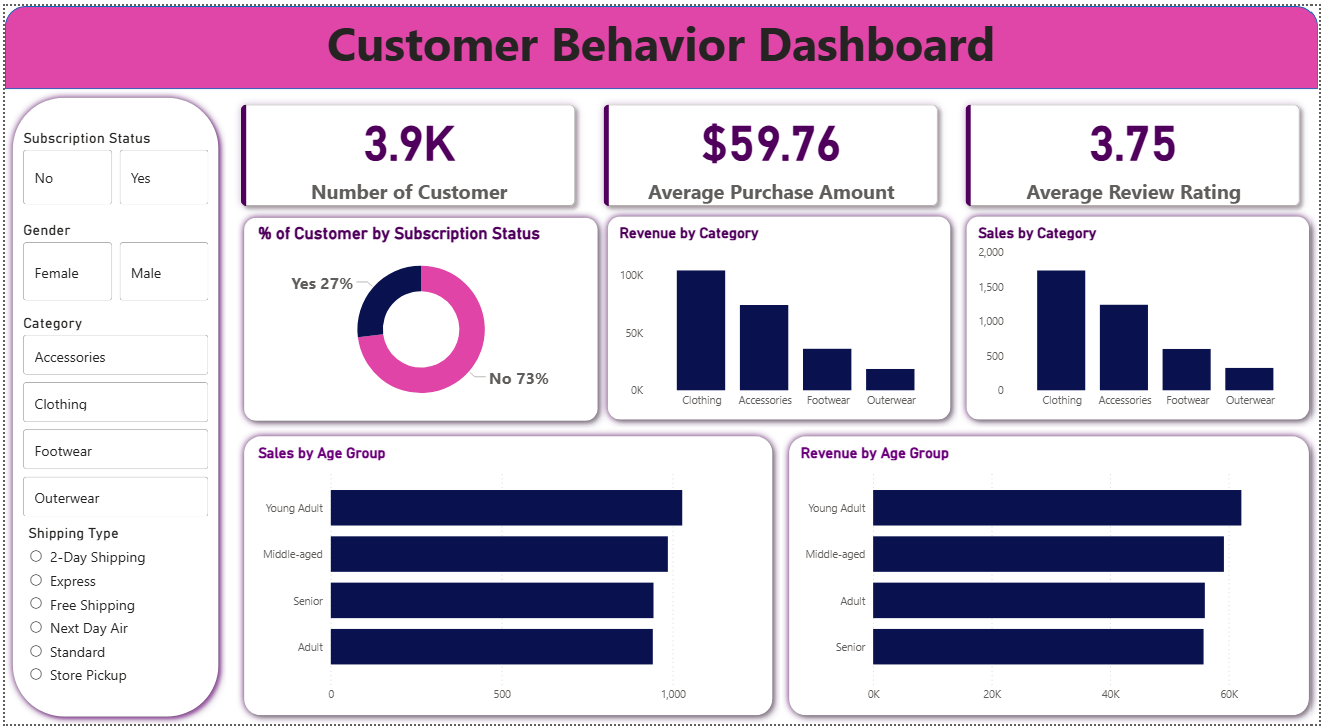

The dashboard page shown, as its layout file describes it:
{"tool":"powerbi","page":{"name":"Page 1","canvas":[1500,820],"ordinal":0},"visuals":[{"type":"cardVisual","fields":{"Data":["public customer.Number of Customer","public customer.Average Purchase Amount","public customer.Average Review Rating"]},"box":[252.9,95,1246.5,150.9],"z":0},{"type":"shape","box":[0,0,1499.4,95],"z":1000},{"type":"textbox","box":[0,0,1499.4,95],"z":2000},{"type":"shape","box":[264.1,233.4,422,250.1],"z":3000},{"type":"donutChart","title":"% of Customer by Subscription Status","fields":{"Category":["public customer.subscription_status"],"Y":["CountNonNull(public customer.customer_id)"]},"box":[283.7,248.7,382.9,220.8],"z":4000},{"type":"shape","box":[680.5,232,409.4,250.1],"z":5000},{"type":"shape","box":[1090,232,409.4,250.1],"z":6000},{"type":"clusteredColumnChart","title":"Revenue by Category","fields":{"Category":["public customer.category"],"Y":["Sum(public customer.purchase_amount)"]},"box":[697.3,248.7,378.7,220.8],"z":7000},{"type":"clusteredColumnChart","title":"Sales by Category","fields":{"Category":["public customer.category"],"Y":["CountNonNull(public customer.customer_id)"]},"box":[1106.8,248.7,378.7,220.8],"z":8000},{"type":"shape","box":[0,95,252.9,725.3],"z":9000},{"type":"advancedSlicerVisual","title":"Subscription Status","fields":{"Values":["public customer.subscription_status"]},"box":[15.4,139.7,222.2,92.2],"z":10000},{"type":"advancedSlicerVisual","title":"Gender","fields":{"Values":["public customer.gender"]},"box":[15.4,245.9,222.2,96.4],"z":11000},{"type":"advancedSlicerVisual","title":"Category","fields":{"Values":["public customer.category"]},"box":[15.4,350.8,222.2,237.6],"z":12000},{"type":"listSlicer","title":"Shipping Type","fields":{"Values":["public customer.shipping_type"]},"box":[21,591.1,211,192.8],"z":13000},{"type":"shape","box":[887.4,483.5,612.1,336.8],"z":15000},{"type":"shape","box":[264.1,483.5,621.9,336.8],"z":16000},{"type":"clusteredBarChart","title":"Sales by Age Group","fields":{"Y":["CountNonNull(public customer.customer_id)"],"Category":["public customer.age_group"]},"box":[283.7,500.3,577.1,304.6],"z":17000},{"type":"clusteredBarChart","title":"Revenue by Age Group","fields":{"Y":["Sum(public customer.purchase_amount)"],"Category":["public customer.age_group"]},"box":[904.1,500.3,577.1,304.6],"z":17001}]}

Visuals, with their boxes in screenshot pixels (x1, y1, x2, y2), scaled from the page's 1500x820 canvas onto the 1322x727 screenshot:
cardVisual - public customer.Number of Customer x public customer.Average Purchase Amount: detection(223, 84, 1321, 218)
shape: detection(0, 0, 1321, 84)
textbox: detection(0, 0, 1321, 84)
shape: detection(233, 207, 605, 429)
"% of Customer by Subscription Status" donutChart: detection(250, 220, 587, 416)
shape: detection(600, 206, 961, 427)
shape: detection(961, 206, 1321, 427)
"Revenue by Category" clusteredColumnChart: detection(615, 220, 948, 416)
"Sales by Category" clusteredColumnChart: detection(975, 220, 1309, 416)
shape: detection(0, 84, 223, 726)
"Subscription Status" advancedSlicerVisual: detection(14, 124, 209, 206)
"Gender" advancedSlicerVisual: detection(14, 218, 209, 303)
"Category" advancedSlicerVisual: detection(14, 311, 209, 522)
"Shipping Type" listSlicer: detection(19, 524, 204, 695)
shape: detection(782, 429, 1321, 726)
shape: detection(233, 429, 781, 726)
"Sales by Age Group" clusteredBarChart: detection(250, 444, 759, 714)
"Revenue by Age Group" clusteredBarChart: detection(797, 444, 1305, 714)
